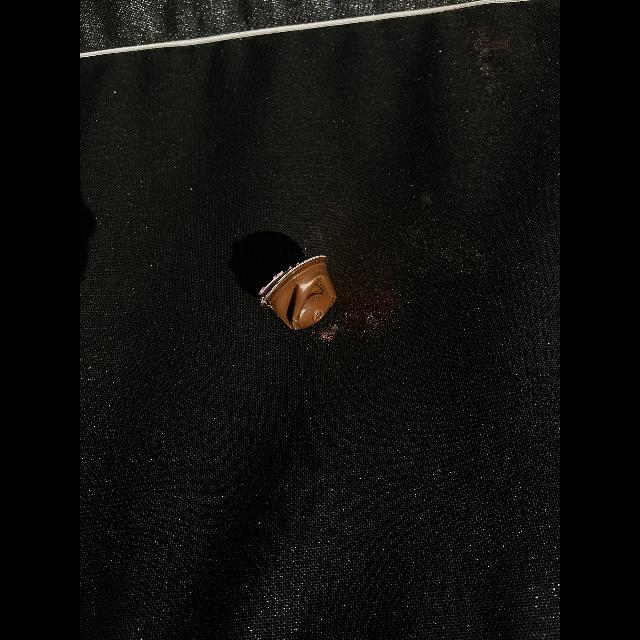damaged_capsule: (253, 252, 341, 332)
